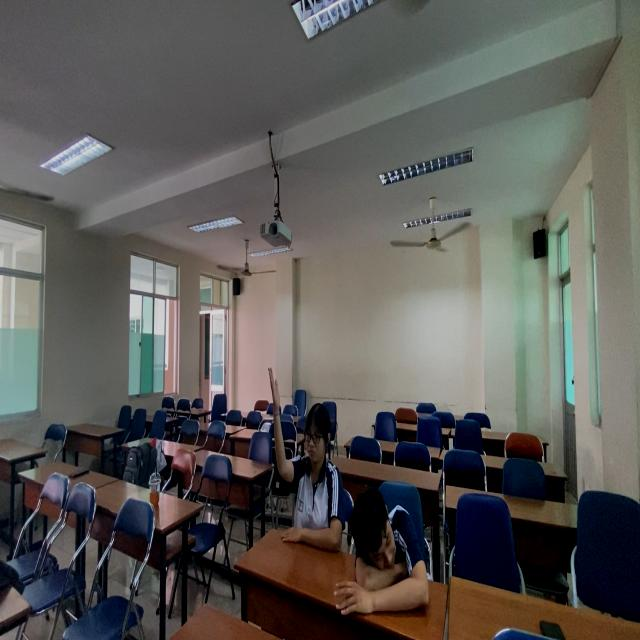raise_hand: (266, 369, 349, 553)
sleep: (326, 486, 440, 628)
